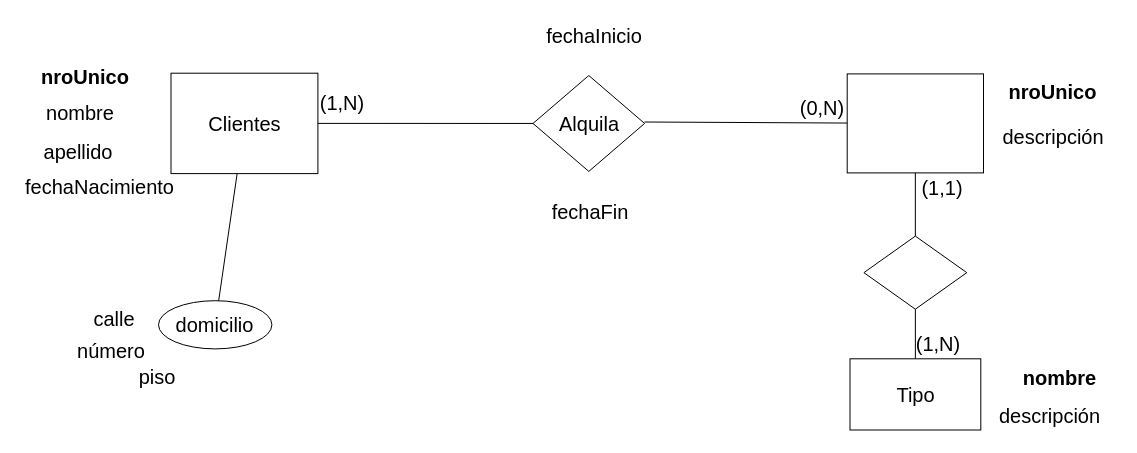
The diagram is 1137 pixels wide and 453 high, and some of its shapes have lost their labels. Here are the shapes that lost their labels. From the top down, the centre of each, then its label:
At (915,123): "Bicicletas".
At (915,272): "Tiene".
